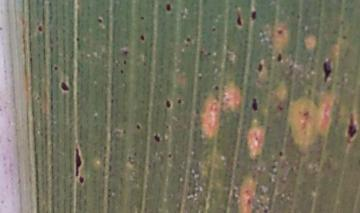tarspot: (67, 141, 84, 177), (344, 110, 360, 147), (320, 56, 334, 85), (246, 95, 263, 114), (57, 78, 74, 95), (232, 10, 245, 30), (272, 50, 287, 64), (274, 100, 287, 114), (254, 60, 266, 75), (151, 130, 162, 146), (248, 7, 259, 23), (162, 97, 174, 111), (299, 107, 314, 118), (162, 1, 175, 13), (134, 10, 147, 22), (118, 45, 132, 56), (211, 81, 222, 95), (195, 70, 206, 84), (105, 94, 118, 105), (181, 34, 195, 44), (164, 150, 175, 162), (274, 26, 287, 36), (133, 122, 144, 133), (137, 31, 147, 43), (25, 54, 37, 64), (275, 148, 286, 158), (339, 32, 350, 42), (118, 57, 130, 66), (50, 62, 60, 72), (174, 96, 184, 106), (36, 24, 45, 35), (115, 67, 126, 76), (76, 176, 88, 184), (260, 205, 272, 213), (72, 35, 83, 43), (96, 15, 104, 25), (209, 25, 217, 34), (163, 122, 172, 130)
